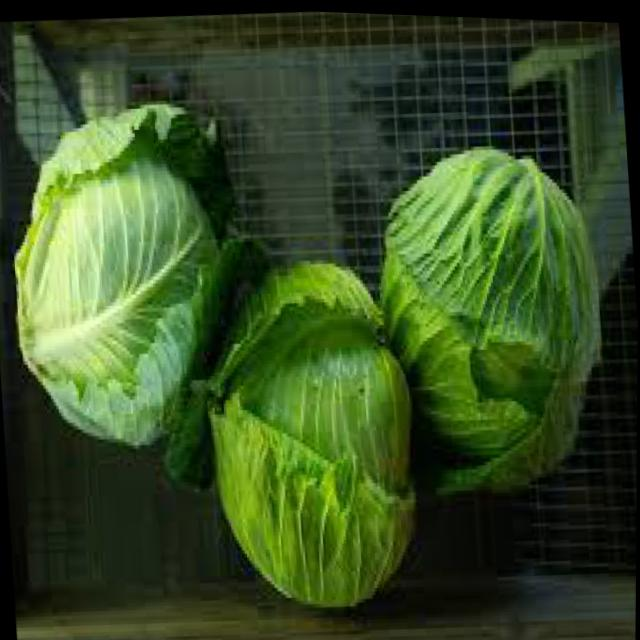Cabbage: (367, 130, 615, 502), (0, 90, 238, 461), (195, 248, 425, 612)
